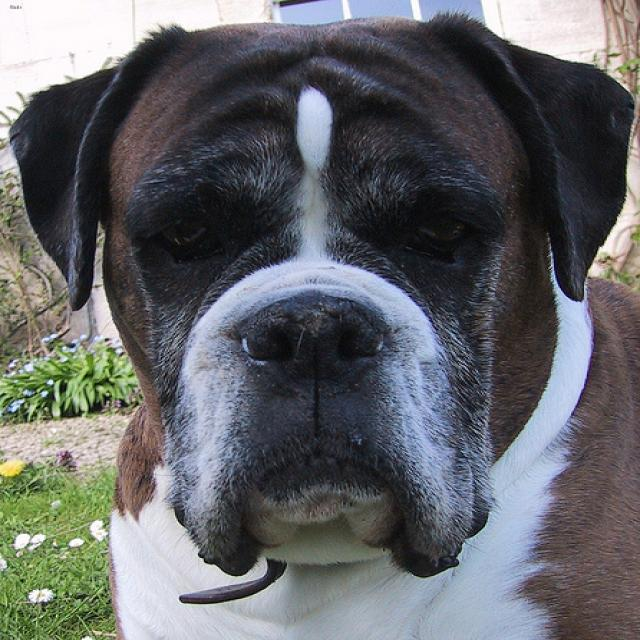dog-boxer: (1, 1, 637, 637)
